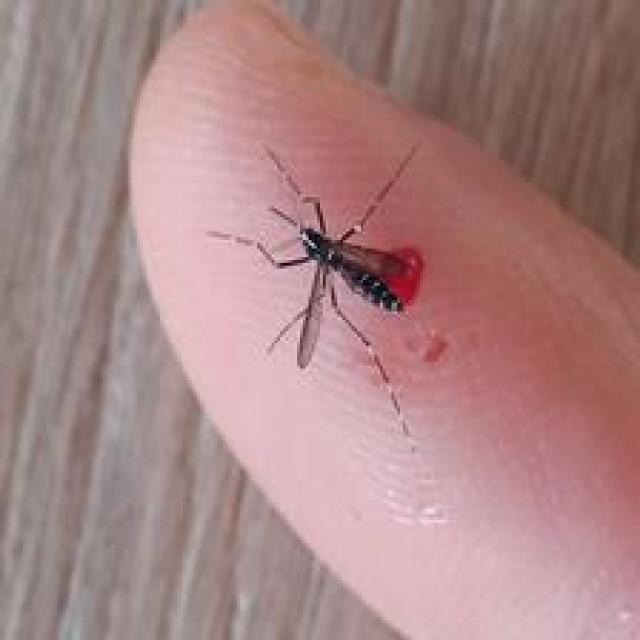Aedes albopictus: (205, 140, 428, 440)
